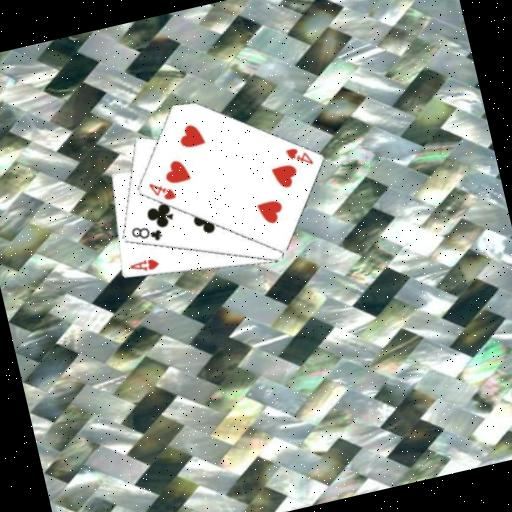4H: (144, 175, 178, 206), (281, 141, 315, 172)
8C: (127, 219, 165, 249)
AH: (125, 254, 161, 277)
